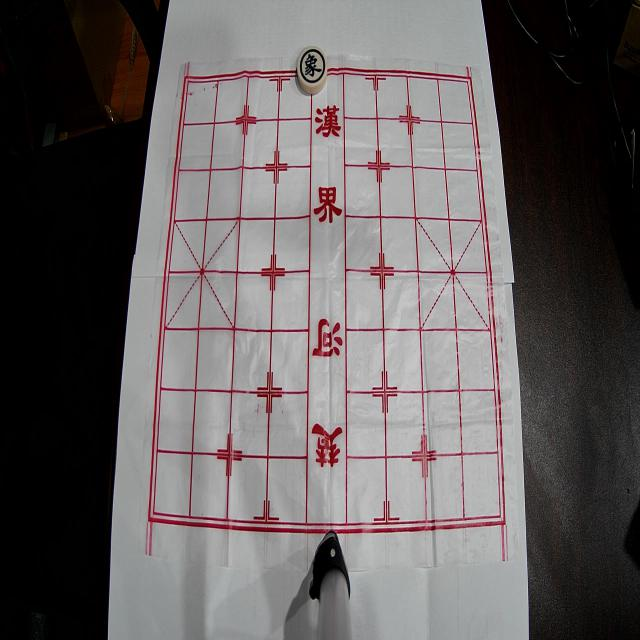black-elephant: (297, 46, 327, 94)
